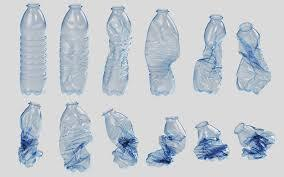BIODEGRADABLE: (144, 6, 182, 98), (100, 4, 136, 99), (190, 11, 228, 99), (16, 2, 51, 96), (232, 17, 271, 100), (55, 100, 97, 175), (57, 2, 90, 97), (99, 105, 140, 169), (146, 110, 188, 169), (15, 101, 46, 167), (232, 117, 274, 163), (188, 116, 228, 163)
